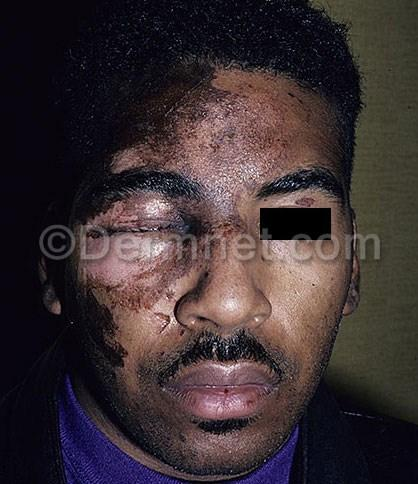Eczema: (231, 100, 289, 148), (144, 399, 188, 445), (86, 342, 133, 385), (164, 90, 213, 131), (81, 278, 125, 321), (128, 293, 164, 342), (94, 321, 133, 365), (275, 87, 323, 122), (208, 180, 244, 223), (189, 199, 228, 238), (188, 73, 231, 107), (145, 259, 179, 295), (205, 128, 246, 156), (174, 127, 197, 175), (123, 279, 161, 307), (141, 133, 178, 161), (150, 282, 181, 314), (256, 338, 288, 368), (187, 244, 214, 279), (292, 180, 321, 211), (111, 397, 140, 427), (144, 202, 195, 218), (111, 202, 151, 222), (262, 155, 291, 182), (272, 356, 296, 387), (156, 339, 195, 357), (188, 446, 224, 465), (259, 435, 286, 459), (226, 156, 248, 185), (217, 447, 252, 464), (279, 404, 299, 432), (170, 242, 188, 273), (140, 362, 160, 388)
